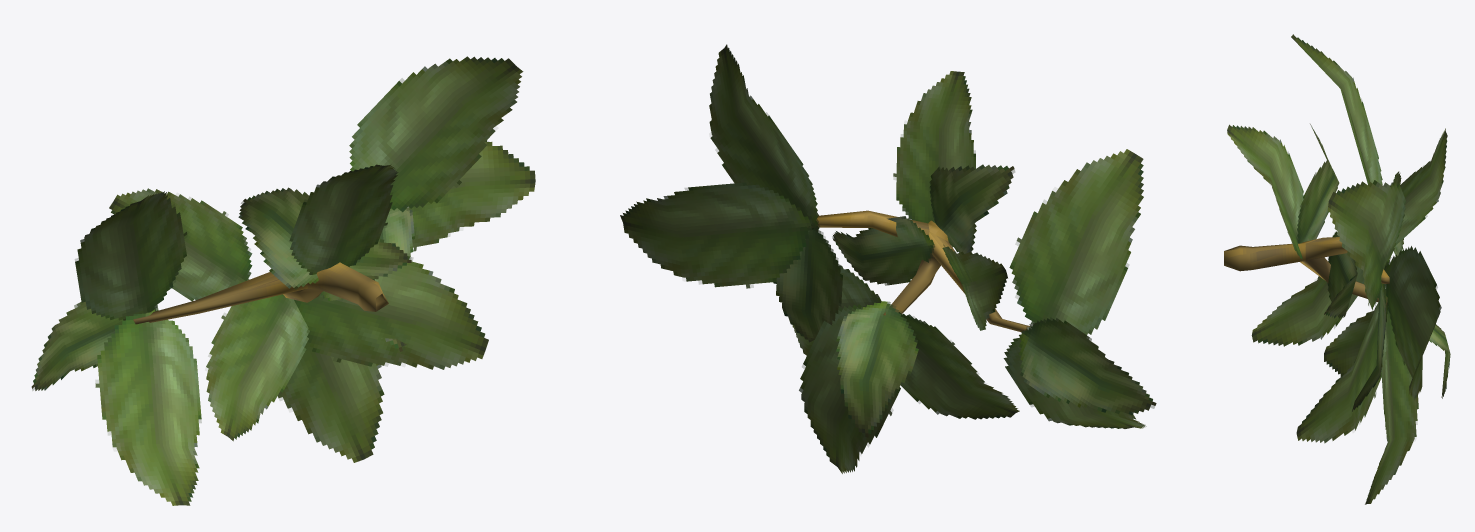
The model's file is Plant 1.fbx.
The picture shows the model from 3 angles, left to right: view 1: azimuth 30°, elevation 25°; view 2: azimuth 150°, elevation 25°; view 3: azimuth 270°, elevation 25°; orthographic projection. The views are drawn at different scales.
Parts seen in each view (by area): view 1: Plant1; view 2: Plant1; view 3: Plant1.
Part boxes in pixels (box(x1,y1,x2,y2)): Plant1: box(31, 56, 535, 505); Plant1: box(620, 44, 1156, 473); Plant1: box(1224, 34, 1450, 504).
Size of the model in its own units: 276 by 218 by 106.
